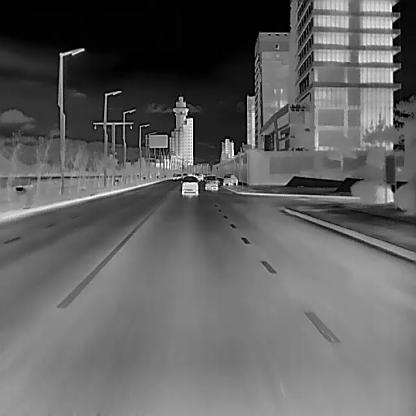car: (181, 175, 198, 196), (204, 175, 218, 189), (222, 173, 237, 186)
